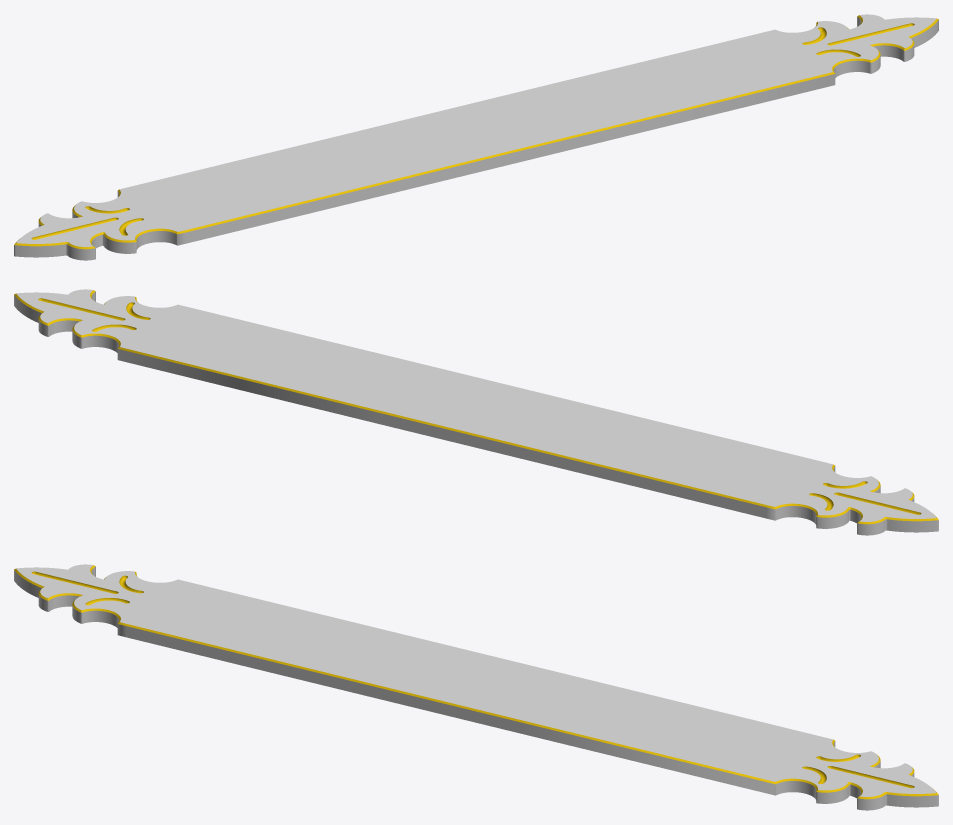
File: The Cisco Beach.glb
The picture shows the model from 3 angles, top to bottom: view 1: azimuth 30°, elevation 25°; view 2: azimuth 150°, elevation 25°; view 3: azimuth 330°, elevation 25°; orthographic projection.
Visible parts, largest first — view 1: 5, BORDERS_curve_.016; view 2: 5, BORDERS_curve_.016; view 3: 5, BORDERS_curve_.016.
Boxes of the visible parts, x1,y1,x2,y2 form: 5: [14, 14, 938, 260]; BORDERS_curve_.016: [14, 15, 938, 249]; 5: [14, 289, 938, 535]; BORDERS_curve_.016: [14, 290, 938, 524]; 5: [14, 564, 938, 810]; BORDERS_curve_.016: [14, 565, 938, 799].
Size of the model in its own units: 40 by 0.5281 by 4.5.
